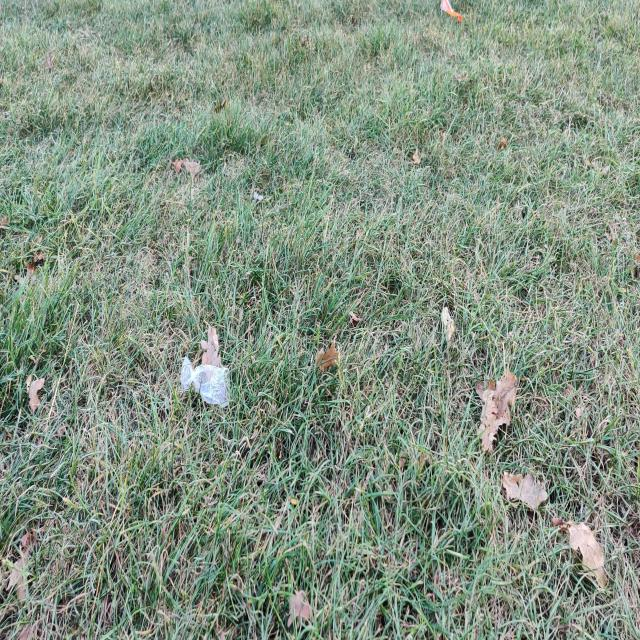litter: (180, 355, 230, 407), (440, 0, 463, 22)
